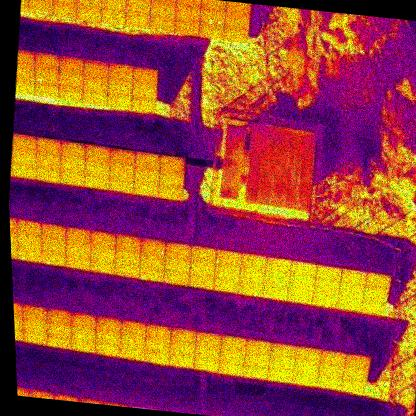Hotspot: (139, 238, 167, 258), (199, 4, 226, 24), (148, 13, 175, 32), (15, 245, 42, 263), (263, 271, 291, 288), (40, 249, 67, 266), (237, 280, 264, 297), (262, 284, 289, 300), (57, 85, 83, 101), (216, 250, 242, 266), (139, 266, 165, 282), (27, 0, 54, 15), (34, 68, 59, 84), (76, 0, 102, 7)
Normal: (115, 233, 142, 254), (89, 230, 117, 250), (164, 242, 192, 262), (107, 62, 135, 81), (223, 8, 251, 27), (144, 323, 172, 342), (339, 268, 368, 286), (240, 252, 267, 271), (315, 264, 342, 283), (58, 168, 86, 186), (39, 224, 67, 242), (189, 246, 217, 264), (123, 10, 151, 28), (187, 272, 215, 290), (286, 286, 314, 304), (81, 88, 108, 106), (106, 91, 133, 109), (60, 140, 87, 158), (159, 155, 186, 173), (65, 226, 92, 244), (265, 256, 292, 274), (290, 260, 317, 278), (40, 236, 67, 254), (365, 271, 392, 289), (213, 275, 240, 293), (173, 18, 200, 36), (21, 304, 48, 322), (46, 307, 73, 325), (220, 334, 247, 352), (267, 366, 294, 384), (82, 58, 109, 76), (313, 279, 341, 296), (337, 281, 365, 298), (343, 353, 371, 370), (174, 2, 200, 20), (83, 172, 109, 190), (157, 182, 183, 200), (214, 262, 240, 280), (223, 25, 249, 43), (245, 338, 271, 356), (34, 52, 60, 70), (131, 67, 158, 84), (106, 77, 133, 94), (35, 137, 62, 154), (84, 145, 111, 162), (83, 158, 110, 175), (133, 165, 160, 182), (99, 7, 126, 24), (16, 233, 43, 250), (238, 266, 265, 283), (70, 311, 97, 328), (95, 315, 122, 332), (195, 330, 222, 347), (45, 332, 72, 349), (291, 370, 318, 387), (58, 56, 85, 73), (311, 292, 339, 308), (294, 346, 322, 362), (168, 340, 196, 356), (315, 374, 343, 390), (58, 70, 84, 87), (82, 74, 108, 91), (11, 134, 37, 151), (134, 151, 160, 168), (133, 179, 159, 196), (51, 1, 77, 18), (64, 253, 90, 270), (198, 22, 224, 39), (243, 363, 269, 380), (109, 148, 136, 164), (59, 155, 86, 171), (114, 250, 141, 266), (88, 258, 115, 274), (270, 342, 297, 358), (320, 350, 347, 366), (194, 344, 221, 360), (244, 352, 271, 368), (268, 354, 295, 370), (70, 337, 97, 353), (143, 350, 170, 366), (168, 353, 195, 369), (193, 356, 220, 372), (131, 95, 156, 112), (12, 162, 37, 179), (11, 148, 37, 164), (35, 152, 61, 168), (159, 170, 185, 186), (35, 166, 61, 182), (108, 176, 134, 192), (16, 220, 42, 236), (75, 5, 101, 21), (65, 242, 91, 258), (189, 260, 215, 276), (363, 284, 389, 300), (163, 270, 189, 286), (336, 295, 362, 311), (120, 320, 146, 336), (170, 328, 196, 344), (95, 329, 121, 345), (95, 340, 121, 356), (218, 360, 244, 376), (150, 0, 177, 15), (288, 275, 315, 290), (45, 321, 72, 336), (69, 325, 96, 340), (119, 333, 146, 348), (144, 337, 171, 352), (218, 348, 245, 363), (293, 359, 320, 374), (132, 82, 157, 98), (109, 162, 134, 178), (114, 262, 139, 278), (360, 298, 385, 314), (89, 247, 115, 262), (318, 363, 344, 378), (119, 345, 145, 360), (34, 82, 59, 97), (139, 254, 164, 269), (164, 258, 190, 272), (342, 366, 368, 380), (22, 329, 46, 344), (22, 318, 47, 332), (340, 378, 365, 392), (125, 0, 151, 12), (100, 0, 126, 10), (190, 139, 192, 143)
